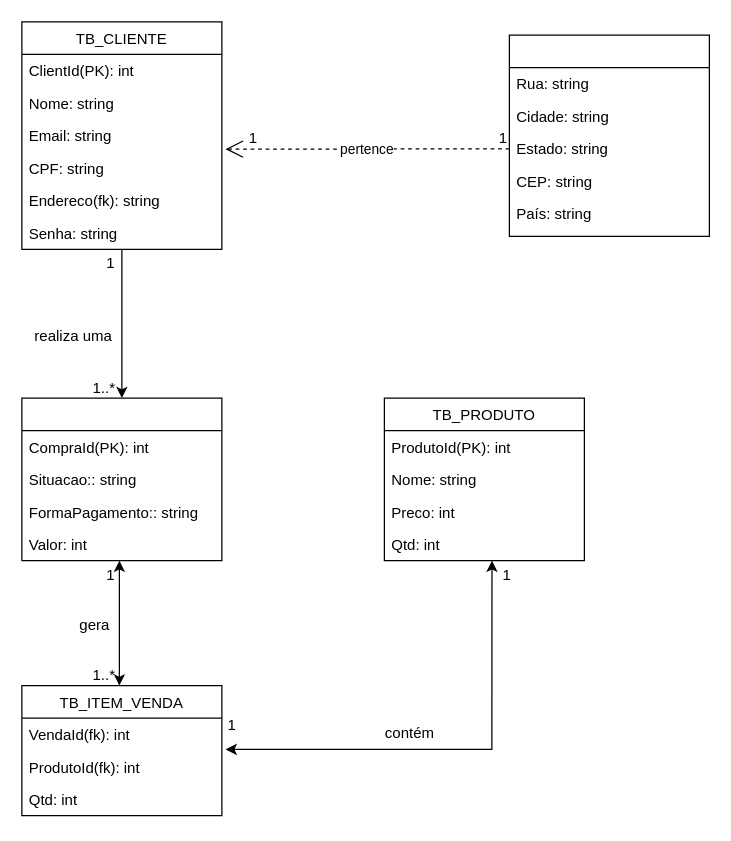
Image size: 731x841. Some labels were removed from this diagram. The box of each missing label's shape, as (x1, y1, x2, y2) in pixels:
TB_COMPRA: (21, 397, 222, 561)
TB_ENDERECO: (508, 34, 709, 236)
